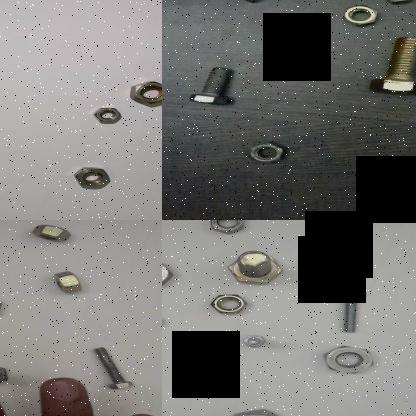Bolts: (370, 34, 416, 96), (317, 286, 371, 336), (190, 63, 238, 119), (84, 342, 134, 392), (214, 403, 292, 416), (238, 330, 270, 355)
NUTS: (310, 342, 384, 378), (242, 132, 290, 167), (187, 362, 233, 394), (66, 164, 112, 190), (29, 220, 77, 244), (337, 2, 381, 28), (48, 267, 86, 297), (202, 292, 249, 316), (124, 78, 162, 106), (200, 220, 256, 236), (88, 104, 124, 126), (162, 257, 175, 291)
